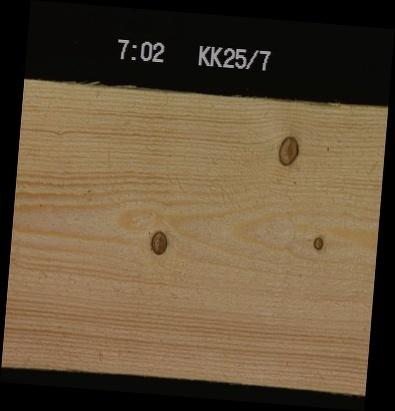dry_knot: (275, 133, 299, 166), (148, 228, 168, 256), (311, 233, 324, 251)
